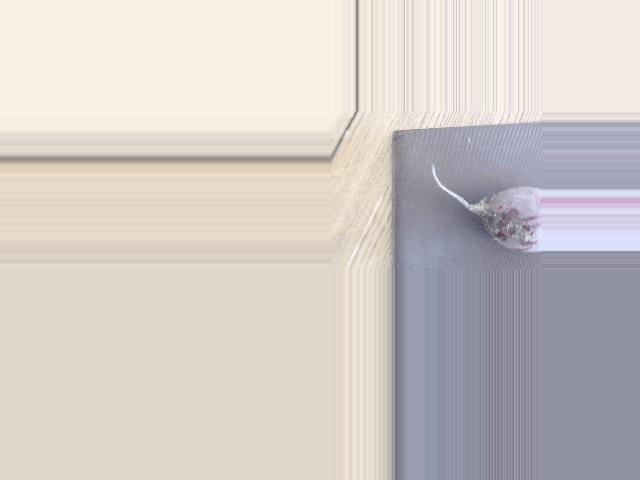beet: (431, 164, 541, 252)
